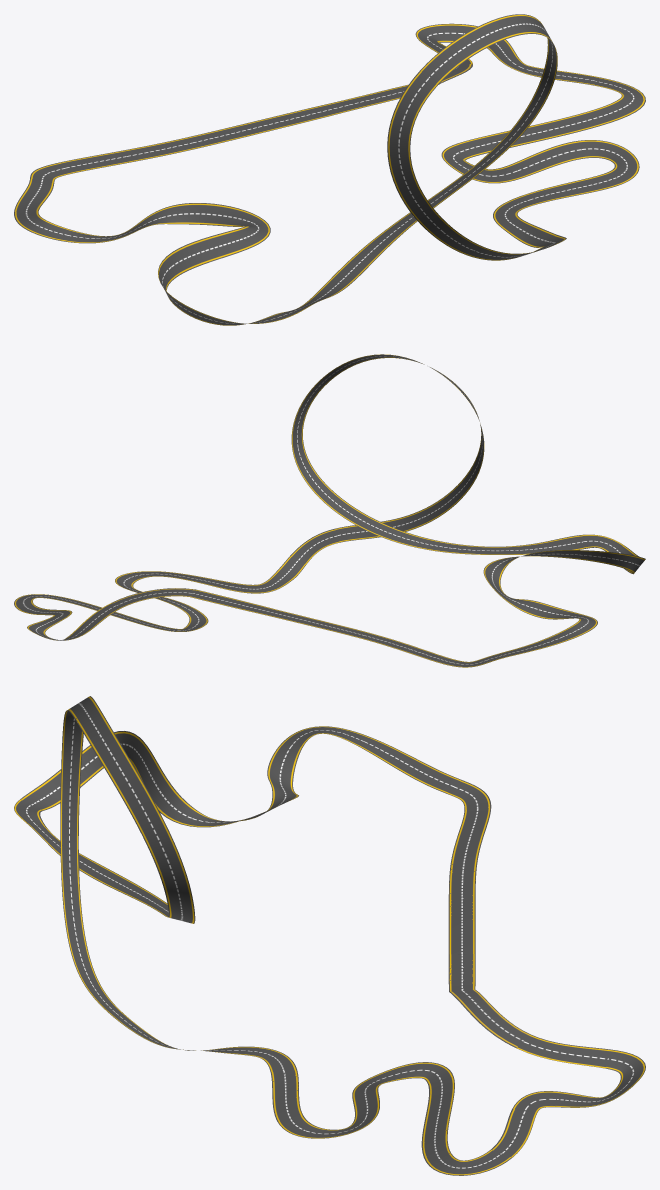
The model's file is newcourse.fbx.
3 views of the same model, one above another, from view 1: azimuth 30°, elevation 25°; view 2: azimuth 150°, elevation 25°; view 3: azimuth 270°, elevation 25° (orthographic). The views are drawn at different scales.
Visible parts, largest first — view 1: Plane.001; view 2: Plane.001; view 3: Plane.001.
Boxes of the visible parts, bbox=[...] form: Plane.001: bbox=[14, 14, 645, 325]; Plane.001: bbox=[14, 354, 645, 667]; Plane.001: bbox=[14, 696, 645, 1175].
Size of the model in its own units: 6382 by 2501 by 4696.
1 material, 1 textured.
